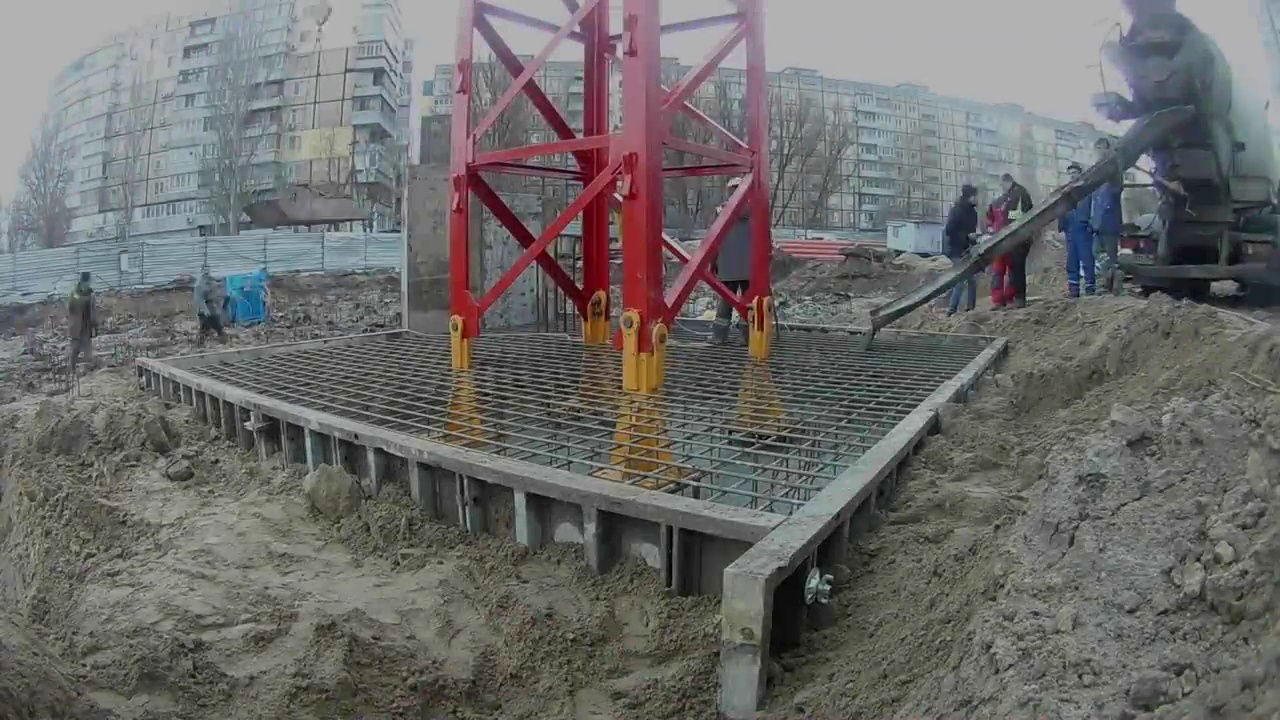helmet-off: (995, 176, 1020, 208), (1093, 136, 1112, 167), (959, 189, 980, 214), (1066, 163, 1083, 191), (75, 273, 92, 299), (199, 264, 213, 284)
person: (711, 176, 758, 342), (1090, 136, 1131, 295), (941, 186, 987, 315), (986, 175, 1031, 304), (1056, 164, 1098, 302), (65, 273, 95, 370), (191, 264, 226, 344)
